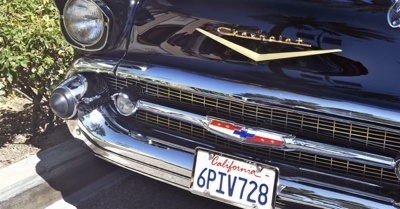plaka: (191, 147, 279, 209)
